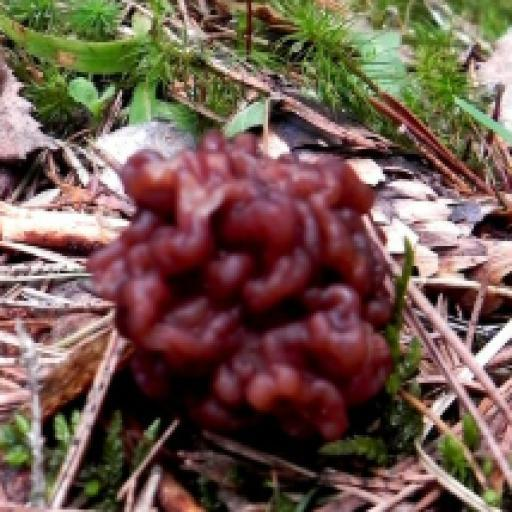mushroom: (76, 123, 411, 448)
